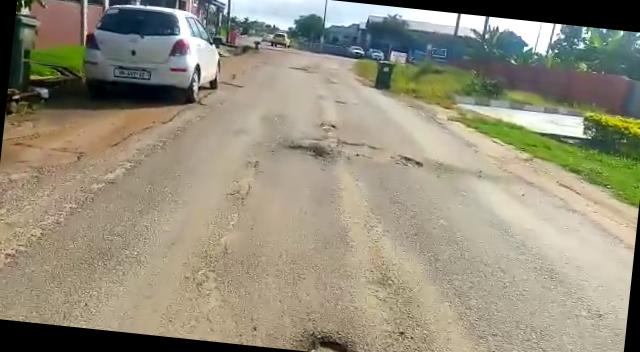pothole: (328, 138, 428, 170), (292, 331, 379, 352), (286, 138, 329, 160)
